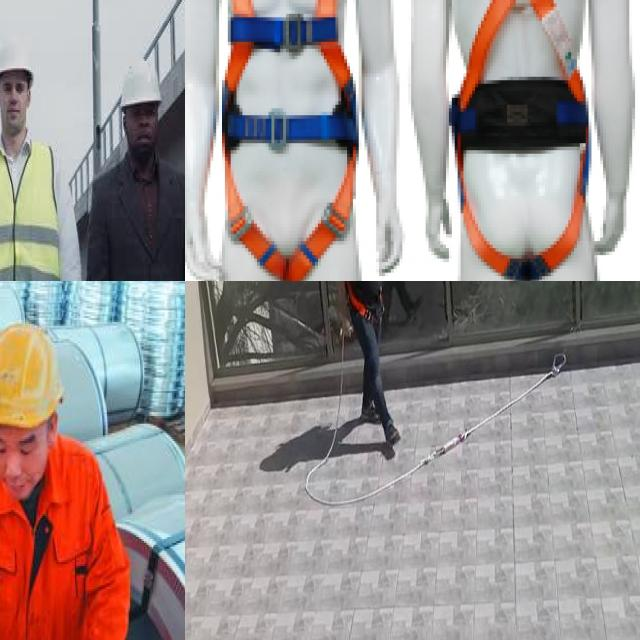Harness: (305, 354, 567, 508), (217, 0, 406, 204), (484, 0, 640, 202)
No_Ear-Protection: (119, 52, 166, 167), (0, 44, 34, 138), (47, 413, 58, 444)
No_Glasses: (0, 422, 51, 459)
face_nomask: (0, 458, 47, 501)
head_helmet: (0, 326, 63, 427)
